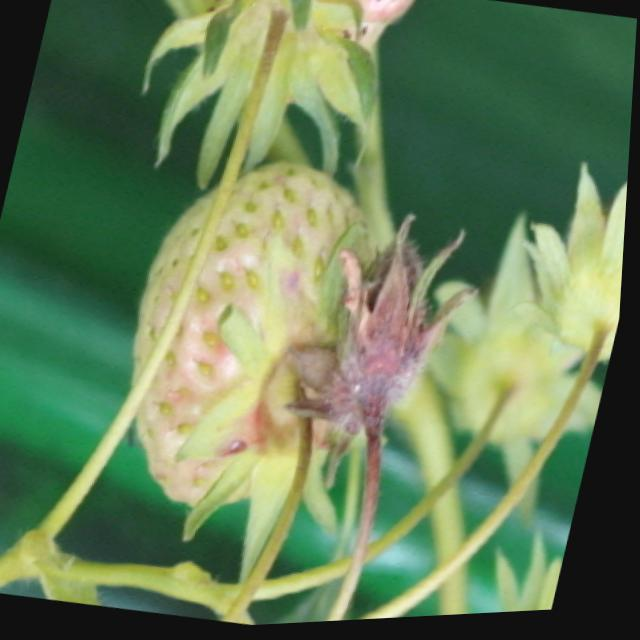Gray Mold: (287, 216, 486, 511)
